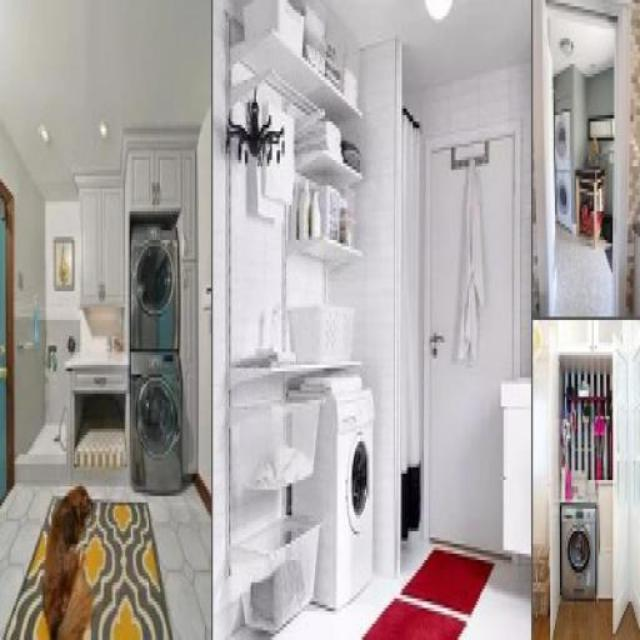Washing-Machine: (294, 375, 378, 603), (133, 345, 179, 495), (132, 216, 180, 348), (560, 501, 598, 603), (556, 165, 580, 227), (556, 104, 572, 164)
